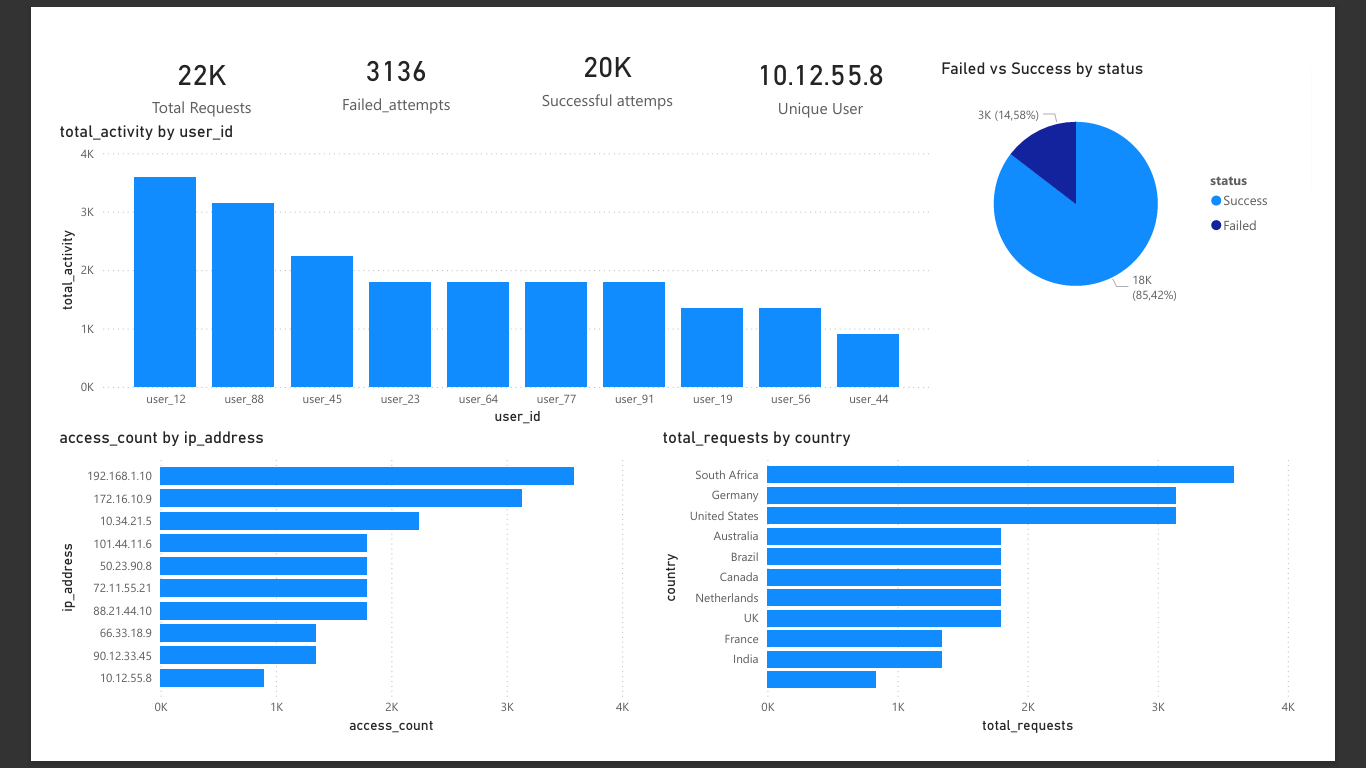

What the dashboard file says about the page in this screenshot:
{"tool":"powerbi","page":{"name":"KPI Cards","canvas":[1280,720],"ordinal":0},"visuals":[{"type":"card","fields":{"Values":["Sum(unusual activity spikes.total_requests)"]},"box":[10,0,280,106.7],"z":0},{"type":"card","fields":{"Values":["Sum(failed login attempts.Failed_attempts)"]},"box":[208.3,0,280,100],"z":1000},{"type":"card","fields":{"Values":["Sum(Most active IP address.access_count)"]},"box":[423.3,0,280,91.7],"z":2000},{"type":"card","fields":{"Values":["Min(Most active IP address.ip_address)"]},"box":[640,8,280,92],"z":3000},{"type":"pieChart","fields":{"Y":["Sum(successful vs failed requests.request_count)"],"Category":["successful vs failed requests.status"]},"box":[898,28,352,278],"z":4000},{"type":"clusteredBarChart","fields":{"Category":["Most active IP address.ip_address"],"Y":["Sum(Most active IP address.access_count)"]},"box":[0,404,590,316],"z":4001},{"type":"barChart","fields":{"Category":["activity by country.country"],"Y":["Sum(activity by country.total_requests)"]},"box":[614,404,654,316],"z":4002},{"type":"columnChart","fields":{"Category":["suspicious users.user_id"],"Y":["Sum(suspicious users.total_activity)"]},"box":[0,92,898,314],"z":4003}]}

Visuals, with their boxes in screenshot pixels (x1, y1, x2, y2), scaled from the page's 1280x720 canvas onto the 1366x768 screenshot:
card - Sum(unusual activity spikes.total_requests): (left=11, top=0, right=309, bottom=114)
card - Sum(failed login attempts.Failed_attempts): (left=222, top=0, right=521, bottom=107)
card - Sum(Most active IP address.access_count): (left=452, top=0, right=751, bottom=98)
card - Min(Most active IP address.ip_address): (left=683, top=9, right=982, bottom=107)
pieChart - Sum(successful vs failed requests.request_count) x successful vs failed requests.status: (left=958, top=30, right=1334, bottom=326)
clusteredBarChart - Most active IP address.ip_address x Sum(Most active IP address.access_count): (left=0, top=431, right=630, bottom=767)
barChart - activity by country.country x Sum(activity by country.total_requests): (left=655, top=431, right=1353, bottom=767)
columnChart - suspicious users.user_id x Sum(suspicious users.total_activity): (left=0, top=98, right=958, bottom=433)
